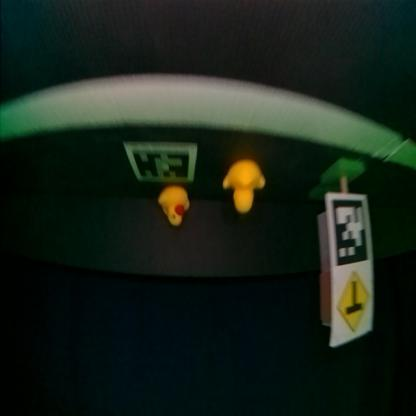Duckie: (224, 160, 265, 214), (160, 186, 190, 226)
Intersection sign: (332, 268, 372, 342)
QR code: (124, 143, 198, 183), (333, 196, 372, 267)
